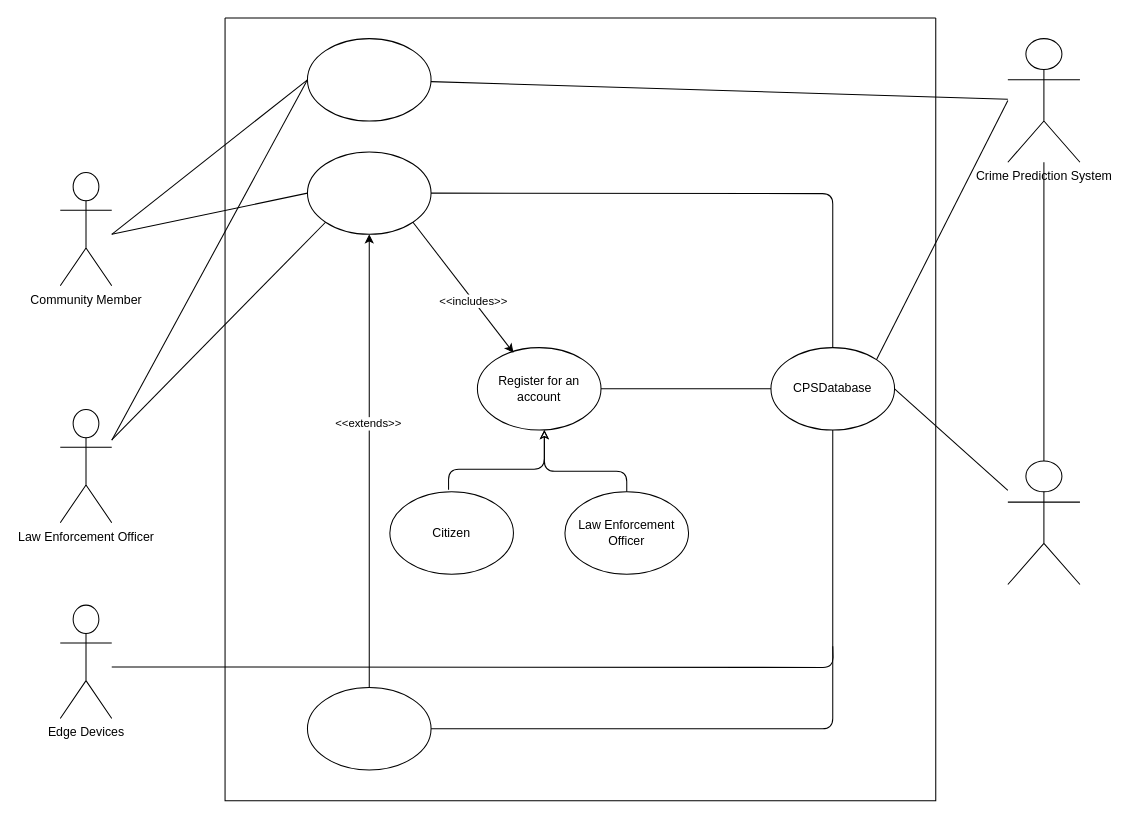
Image size: 1129x819. Some labels were removed from this diagram. The shapes that lost their labels are listed below. From the top down, each one's box as (x1, y1, x2, y2) in pixels, then its label:
(306, 38, 431, 121): Alert System
(306, 151, 431, 234): Login
(1007, 460, 1080, 585): Data Processing System
(306, 686, 431, 770): Report a Crime
